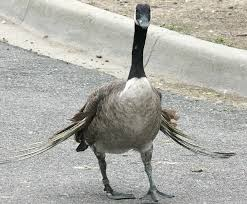goose: (21, 3, 238, 202)
